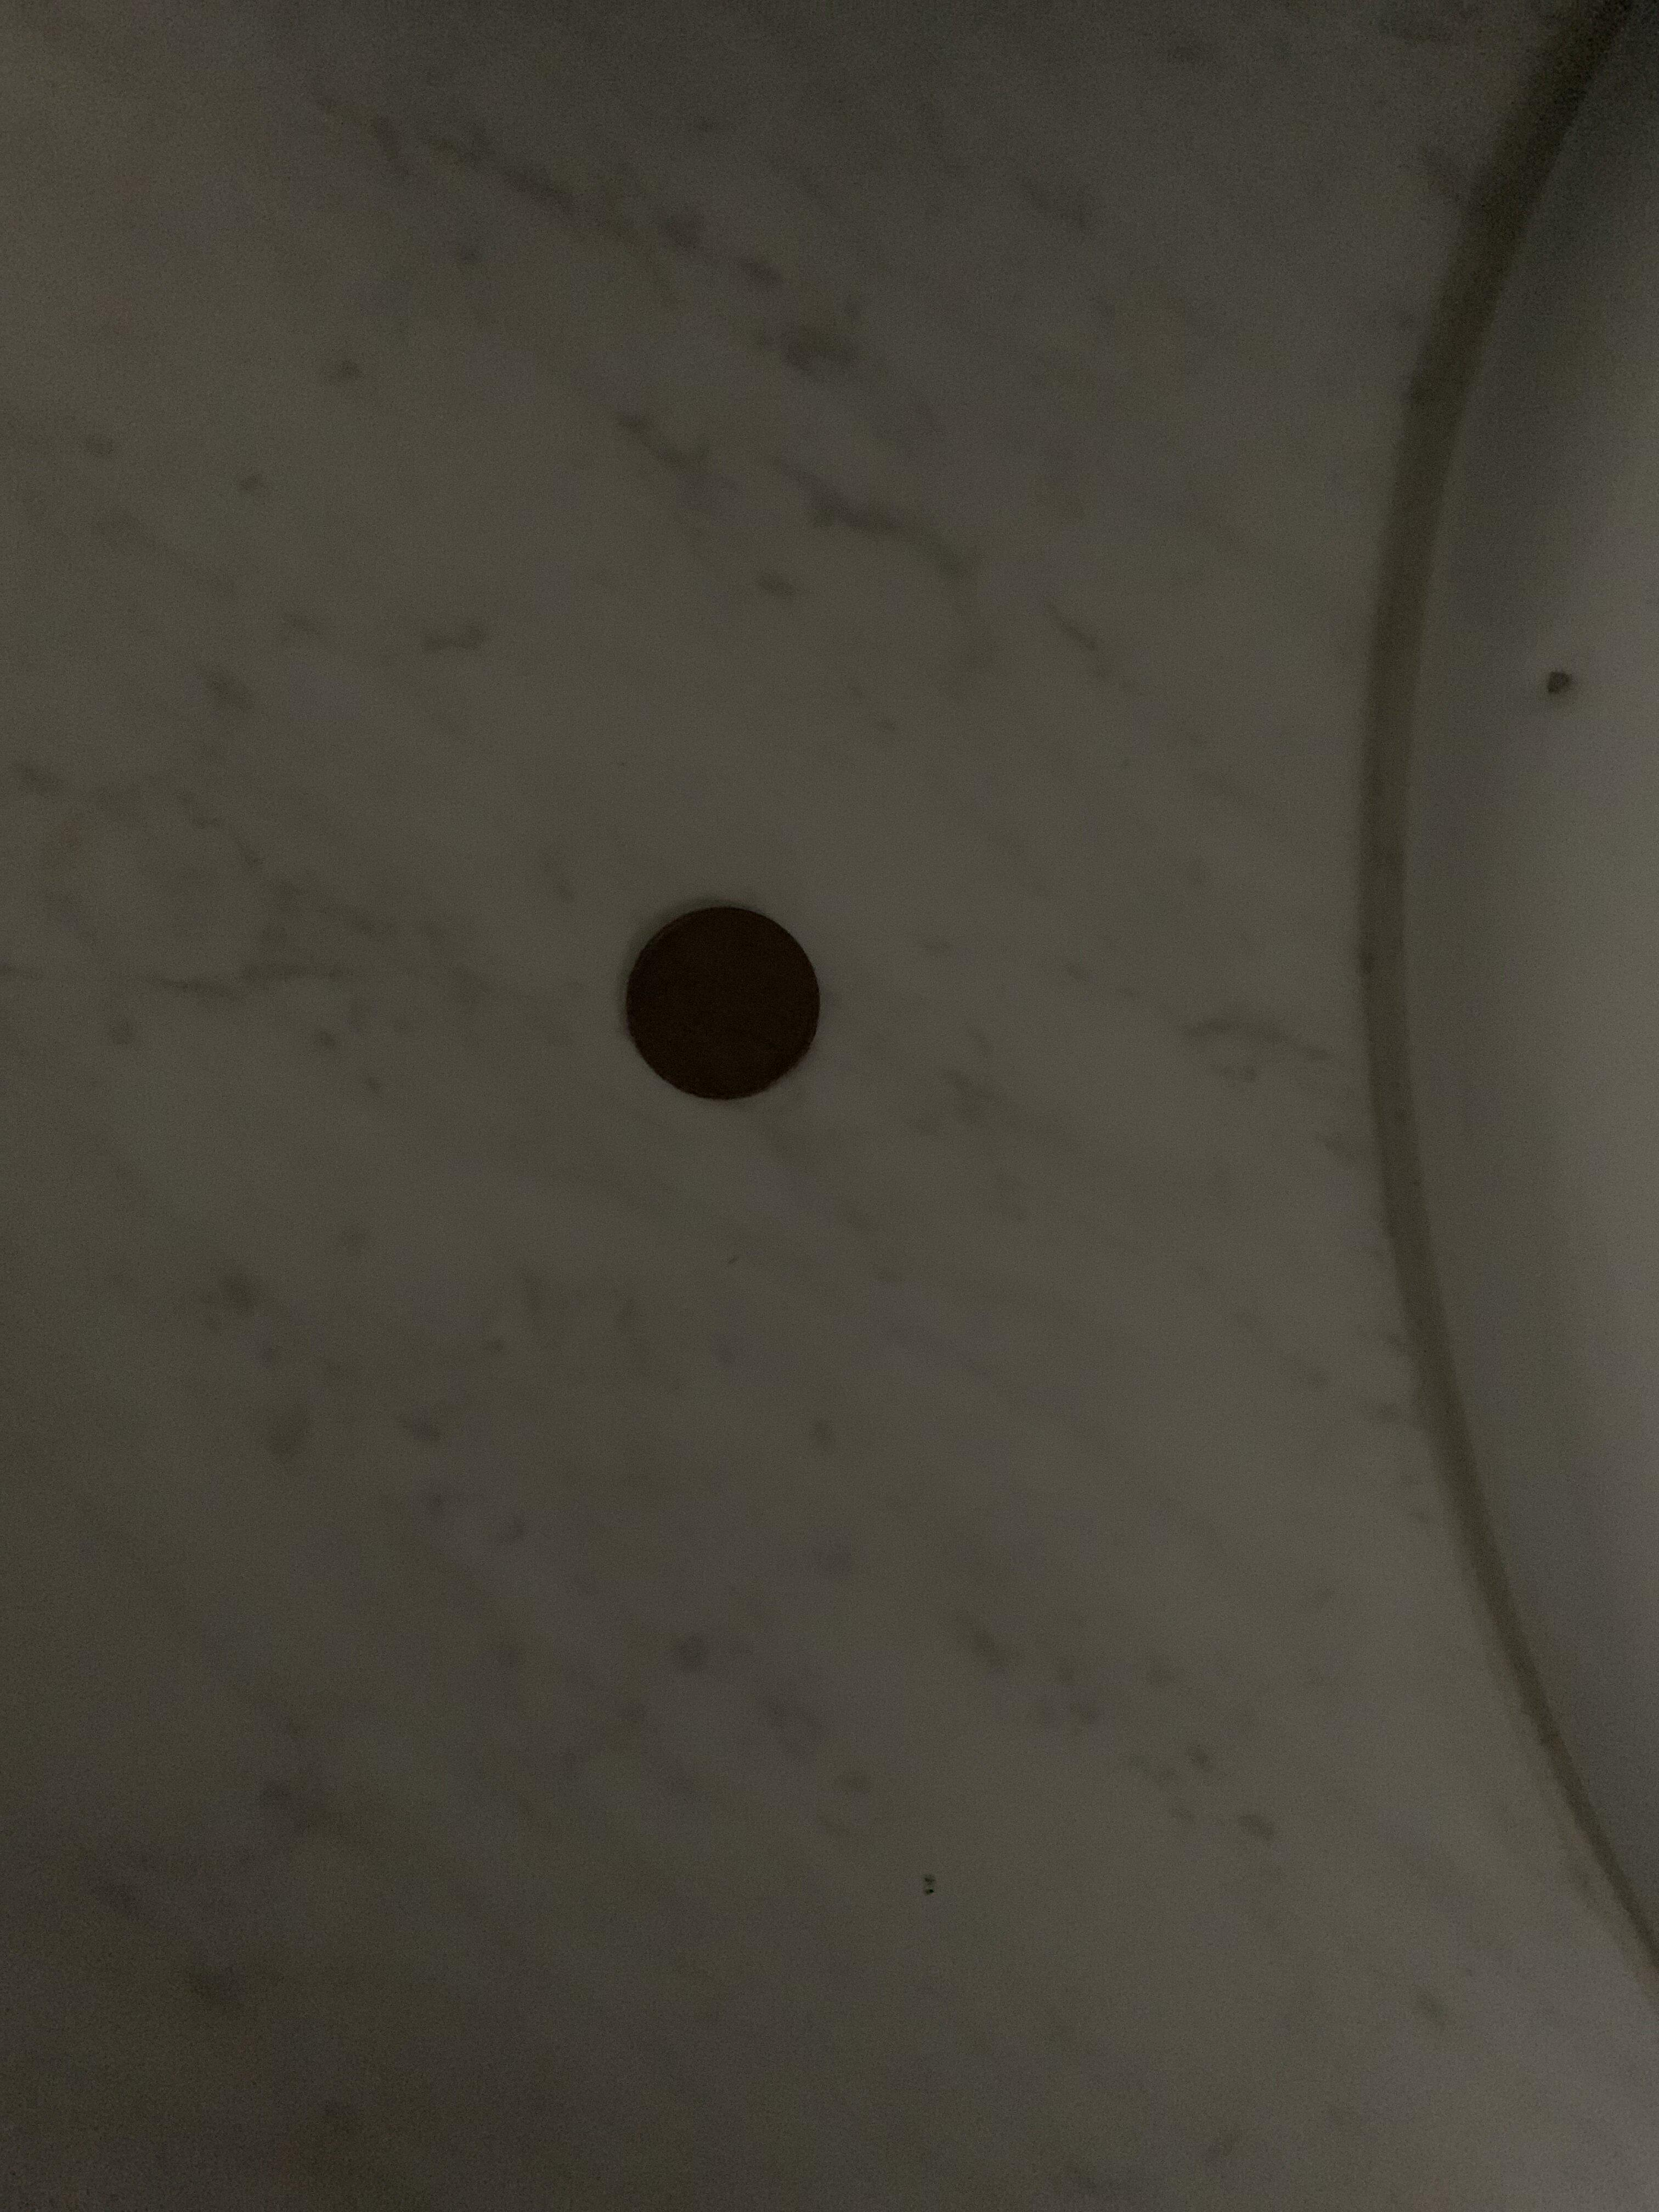Penny: (568, 876, 870, 1120)
